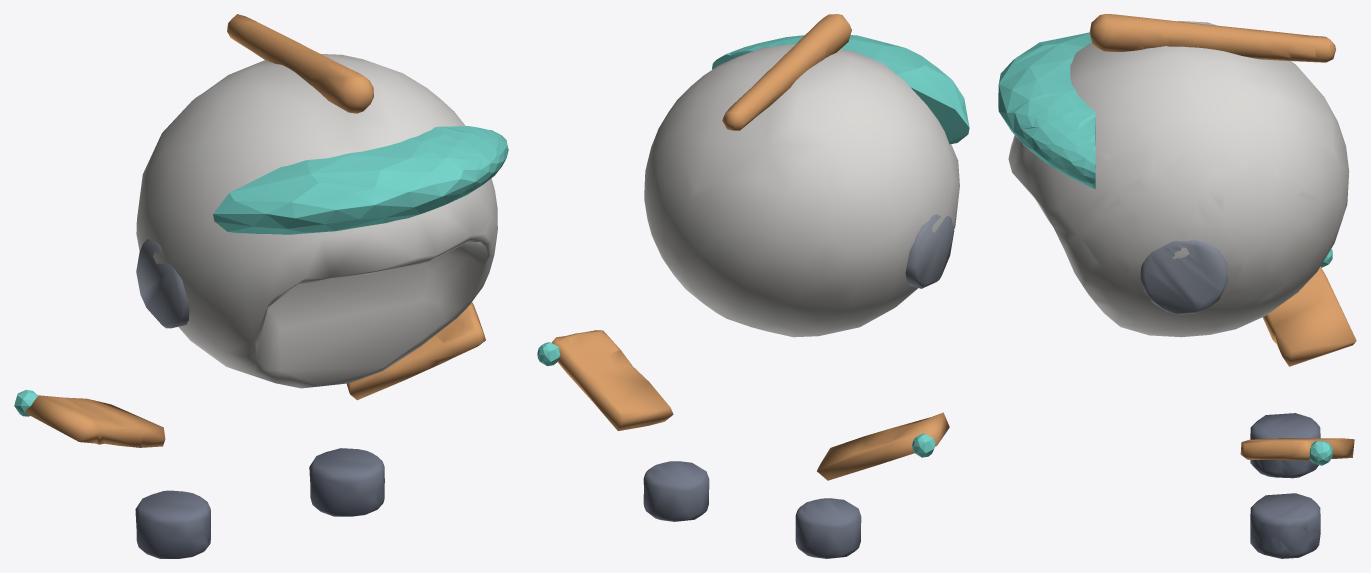
File: tenue_nebuleuse.glb
3 renders of one model, left to right at view 1: azimuth 30°, elevation 25°; view 2: azimuth 150°, elevation 25°; view 3: azimuth 270°, elevation 25°, orthographic. The views are drawn at different scales.
Parts seen in each view (by area): view 1: head__coiffe, head__visage_glow, torso__ailes; view 2: head__coiffe, torso__ailes, head__visage_glow, torso__ailes_glow; view 3: head__coiffe, torso__ailes, head__visage_glow, torso__ailes_glow.
Part boxes in pixels (bbox=[...]): head__coiffe: bbox=[136, 14, 497, 388]; head__visage_glow: bbox=[213, 126, 508, 234]; torso__ailes: bbox=[24, 302, 485, 558]; head__coiffe: bbox=[644, 14, 959, 337]; torso__ailes: bbox=[551, 330, 949, 558]; head__visage_glow: bbox=[712, 35, 969, 144]; torso__ailes_glow: bbox=[537, 342, 935, 457]; head__coiffe: bbox=[1008, 14, 1349, 337]; torso__ailes: bbox=[1240, 266, 1356, 558]; head__visage_glow: bbox=[998, 32, 1095, 188]; torso__ailes_glow: bbox=[1309, 249, 1332, 465].
Bounding box in the file's own units: 0.7815 × 0.8563 × 0.5668.
